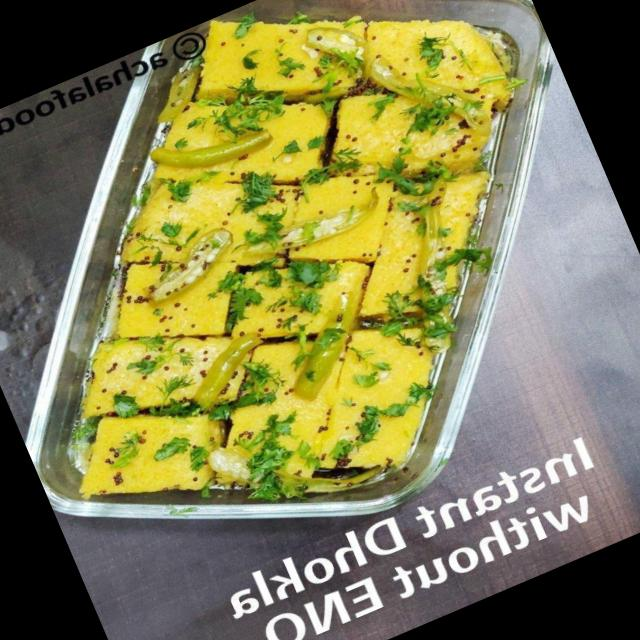dhokla: (0, 0, 635, 577)
